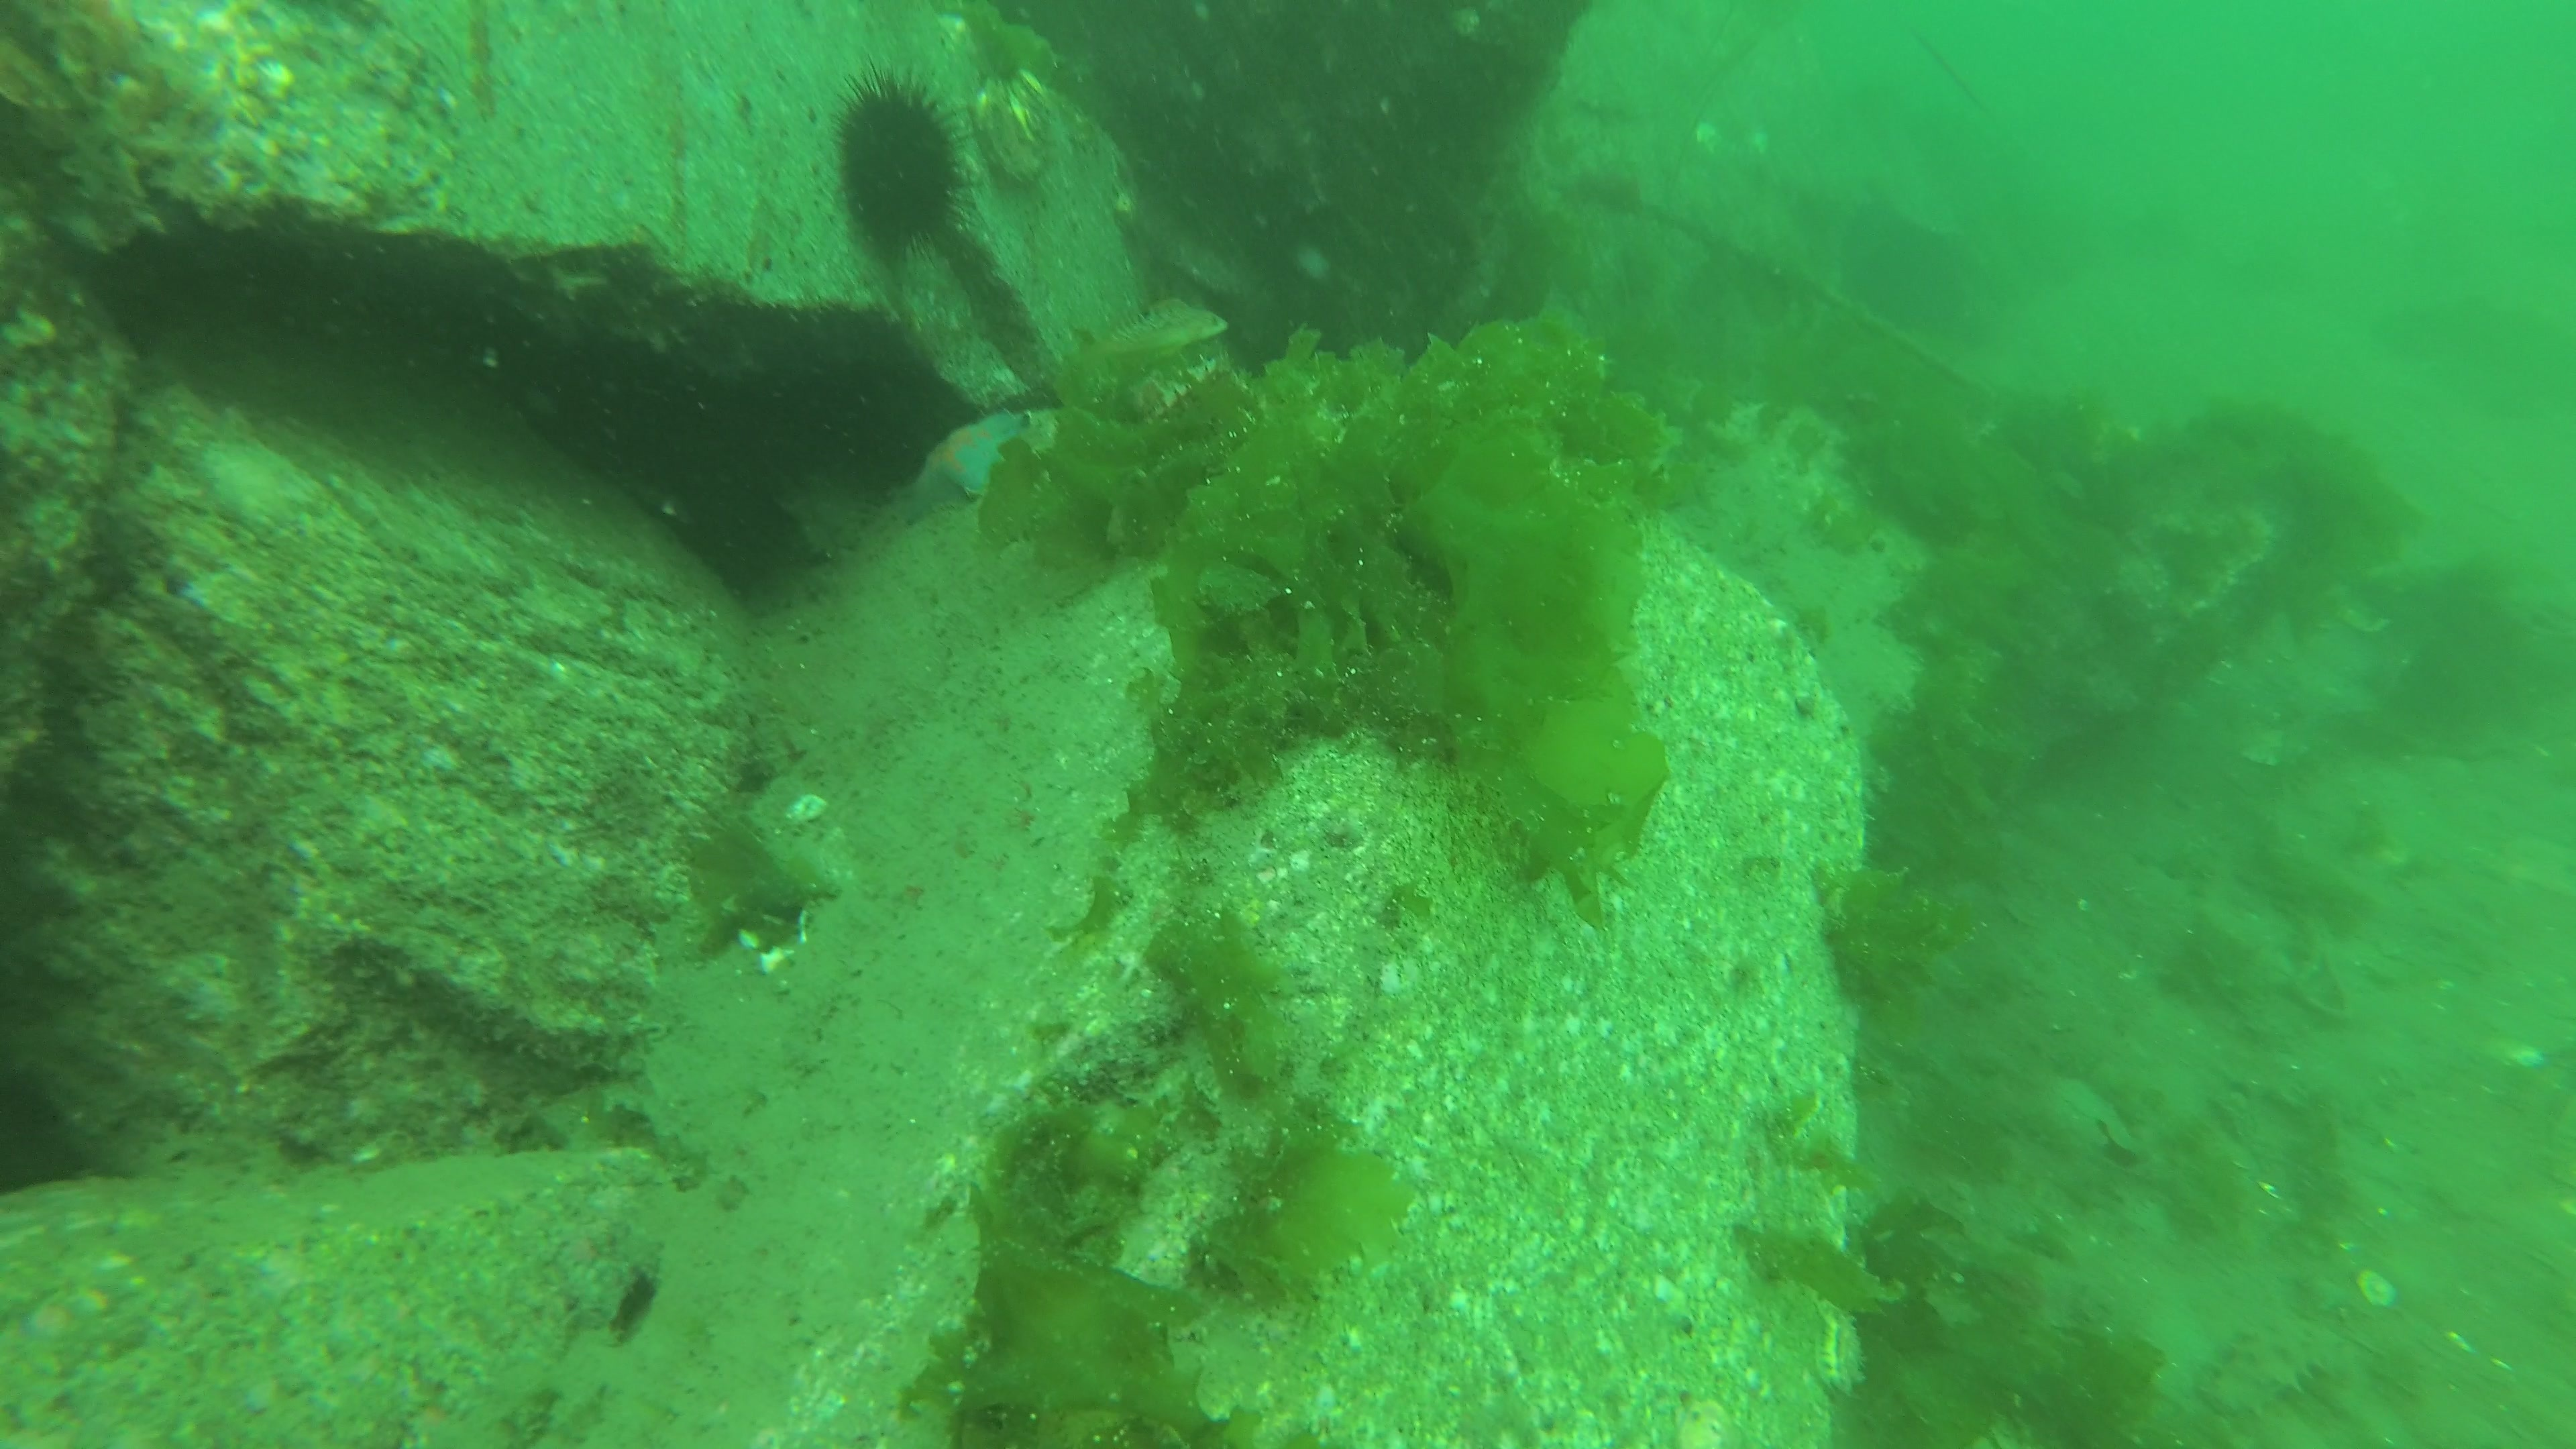echinus: (824, 64, 985, 280)
holothurian: (2197, 1311, 2348, 1421)
starfish: (904, 400, 1035, 508)
